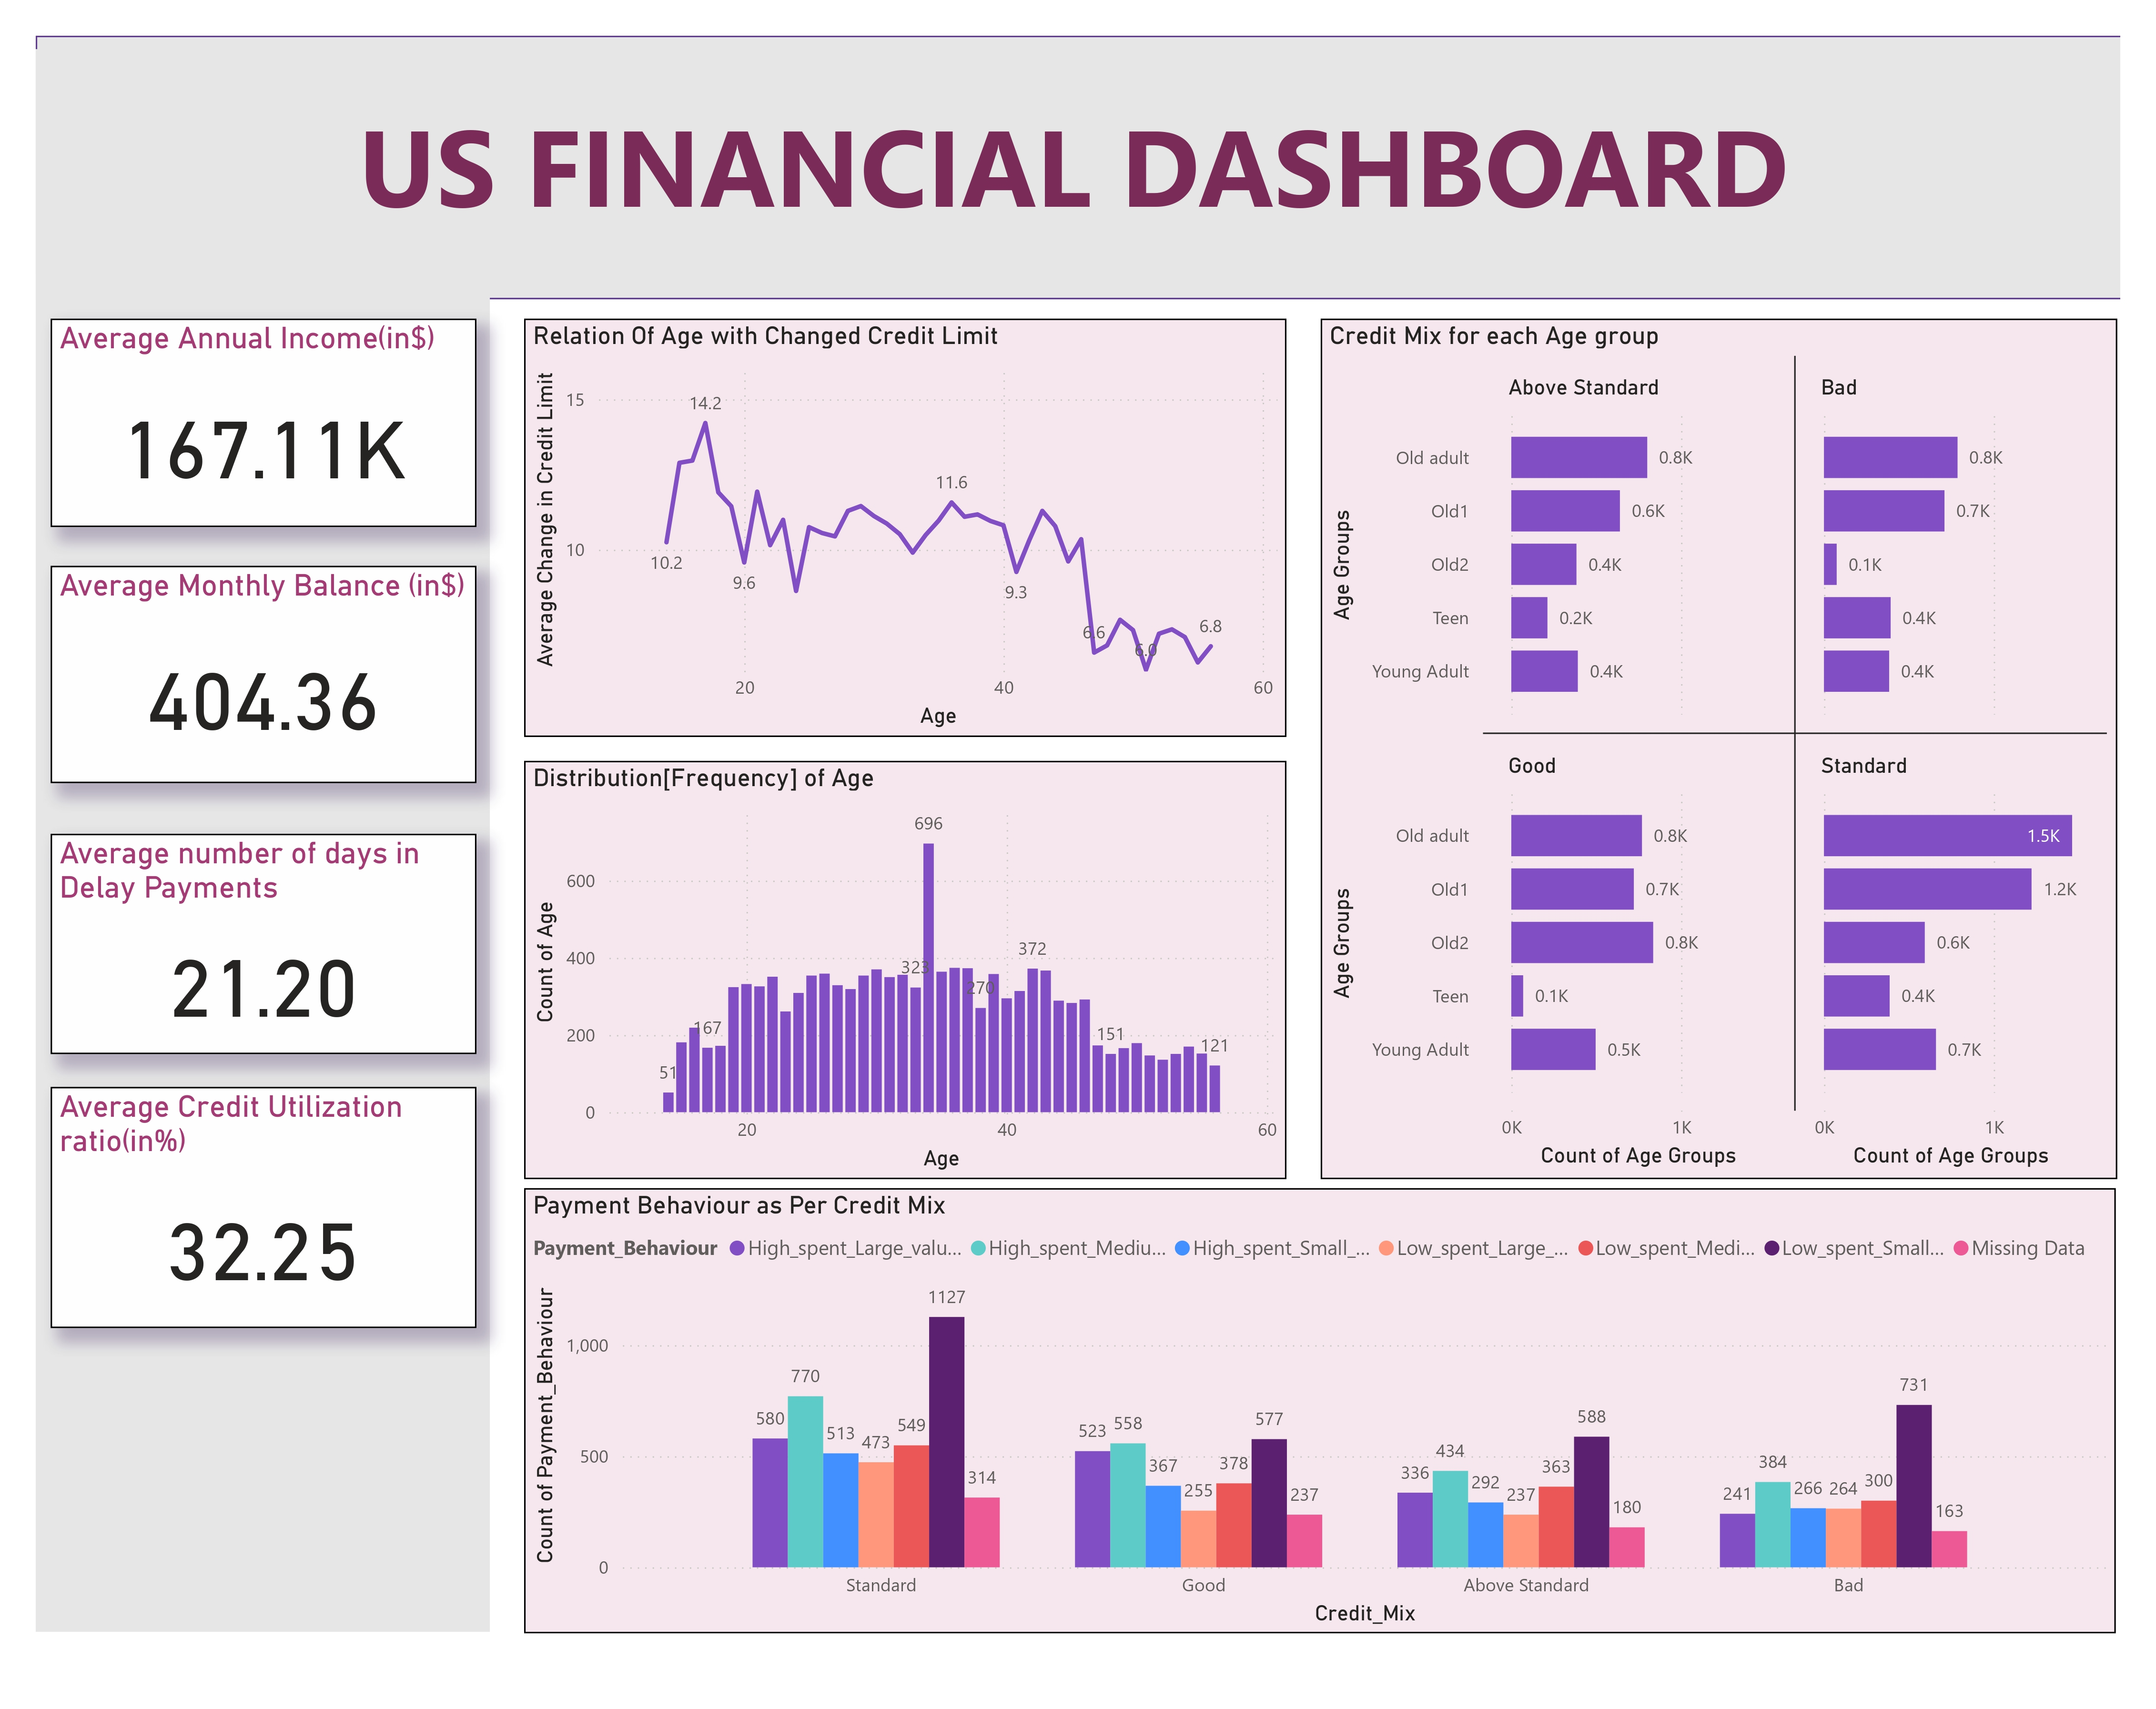

This screenshot's page, from the dashboard's own definition file:
{"tool":"powerbi","page":{"name":"Page 1","canvas":[1400,1100],"ordinal":0},"visuals":[{"type":"shape","box":[0,0,1400.7,176.7],"z":0},{"type":"shape","box":[0,9.1,304.5,1062.7],"z":1000},{"type":"textbox","box":[104.6,31.8,1184.4,123.3],"z":2000},{"type":"card","title":"Average Annual Income(in$)","fields":{"Values":["Avg(combined_df.Annual_Income)"]},"box":[10,190,286,140],"z":3000},{"type":"card","title":"Average Monthly Balance (in$)","fields":{"Values":["Avg(combined_df.Monthly_Balance)"]},"box":[10,356,286,146],"z":4000},{"type":"card","title":"Average number of days  in Delay Payments","fields":{"Values":["Avg(combined_df.Delay_from_due_date)"]},"box":[10,536,286,148],"z":5000},{"type":"card","title":"Average Credit Utilization ratio(in%)","fields":{"Values":["Avg(combined_df.Credit_Utilization_Ratio)"]},"box":[10,706,286,162],"z":6000},{"type":"lineChart","title":"Relation Of Age with Changed  Credit Limit","fields":{"Category":["combined_df.Age"],"Y":["Avg(combined_df.Changed_Credit_Limit)"]},"box":[327.7,189.5,512.4,281.1],"z":7000},{"type":"clusteredColumnChart","title":"Distribution[Frequency] of Age ","fields":{"Category":["combined_df.Age"],"Y":["CountNonNull(combined_df.Age)"]},"box":[327.7,486.7,512.4,281.1],"z":8000},{"type":"clusteredBarChart","title":"Credit Mix for each Age group","fields":{"Category":["combined_df.Age Groups"],"Y":["CountNonNull(combined_df.Age Groups)"],"Rows":["combined_df.Credit_Mix"]},"box":[863.3,190,535,578.3],"z":9000},{"type":"clusteredColumnChart","title":"Payment Behaviour as Per Credit Mix","fields":{"Category":["combined_df.Credit_Mix"],"Y":["CountNonNull(combined_df.Payment_Behaviour)"],"Series":["combined_df.Payment_Behaviour"]},"box":[327.7,774.2,1069.8,298.8],"z":10000}]}

Visuals, with their boxes on the page's 1400x1100 design canvas (x1, y1, x2, y2). These are canvas units, not pixel positions in the 2156x1709 screenshot, which may show the page scaled, cropped or inside an application window:
shape: <box>0,0,1401,177</box>
shape: <box>0,9,304,1072</box>
textbox: <box>105,32,1289,155</box>
"Average Annual Income(in$)" card: <box>10,190,296,330</box>
"Average Monthly Balance (in$)" card: <box>10,356,296,502</box>
"Average number of days  in Delay Payments" card: <box>10,536,296,684</box>
"Average Credit Utilization ratio(in%)" card: <box>10,706,296,868</box>
"Relation Of Age with Changed  Credit Limit" lineChart: <box>328,190,840,471</box>
"Distribution[Frequency] of Age " clusteredColumnChart: <box>328,487,840,768</box>
"Credit Mix for each Age group" clusteredBarChart: <box>863,190,1398,768</box>
"Payment Behaviour as Per Credit Mix" clusteredColumnChart: <box>328,774,1398,1073</box>
